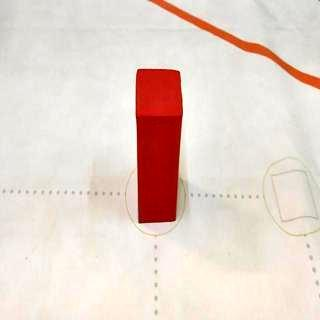redbox: (135, 68, 183, 225)
